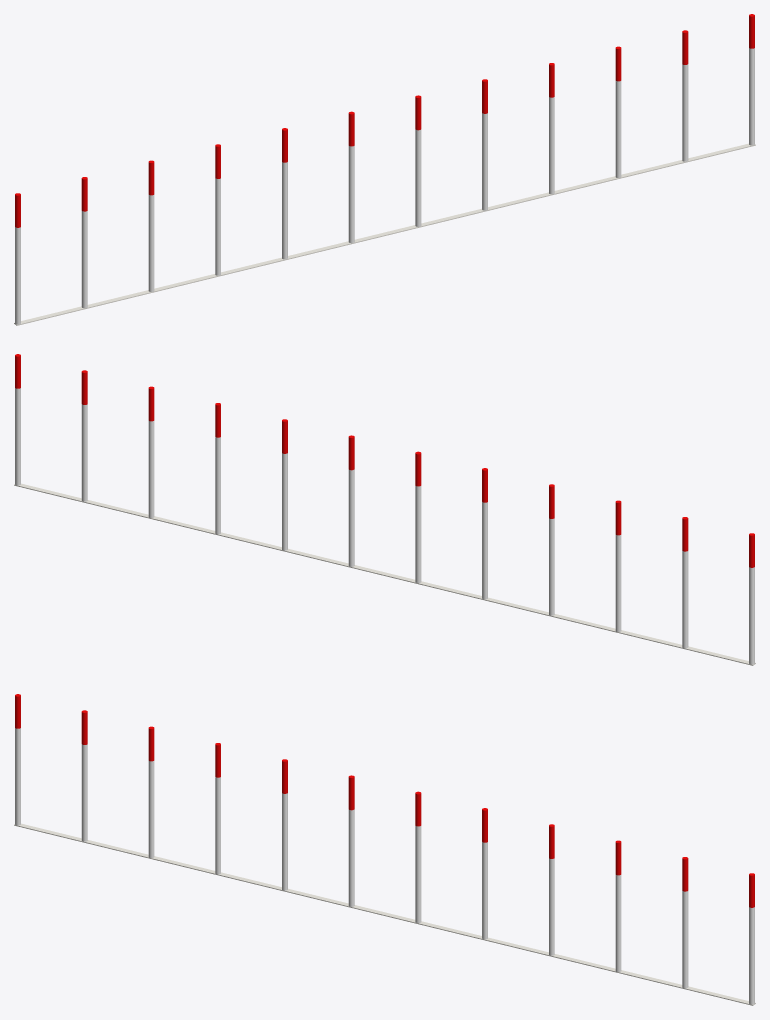
Rendered from weave_12_poles.fbx.
The picture shows the model from 3 angles, top to bottom: view 1: azimuth 30°, elevation 25°; view 2: azimuth 150°, elevation 25°; view 3: azimuth 330°, elevation 25°; orthographic projection.
Parts seen in each view (by area): view 1: Part 1; view 2: Part 1; view 3: Part 1.
Part boxes in pixels (x1=…): Part 1: x1=14, y1=48, x2=755, y2=325; Part 1: x1=14, y1=388, x2=755, y2=665; Part 1: x1=14, y1=728, x2=755, y2=1005.
Bounding box in the file's own units: 720 × 121 × 5.
